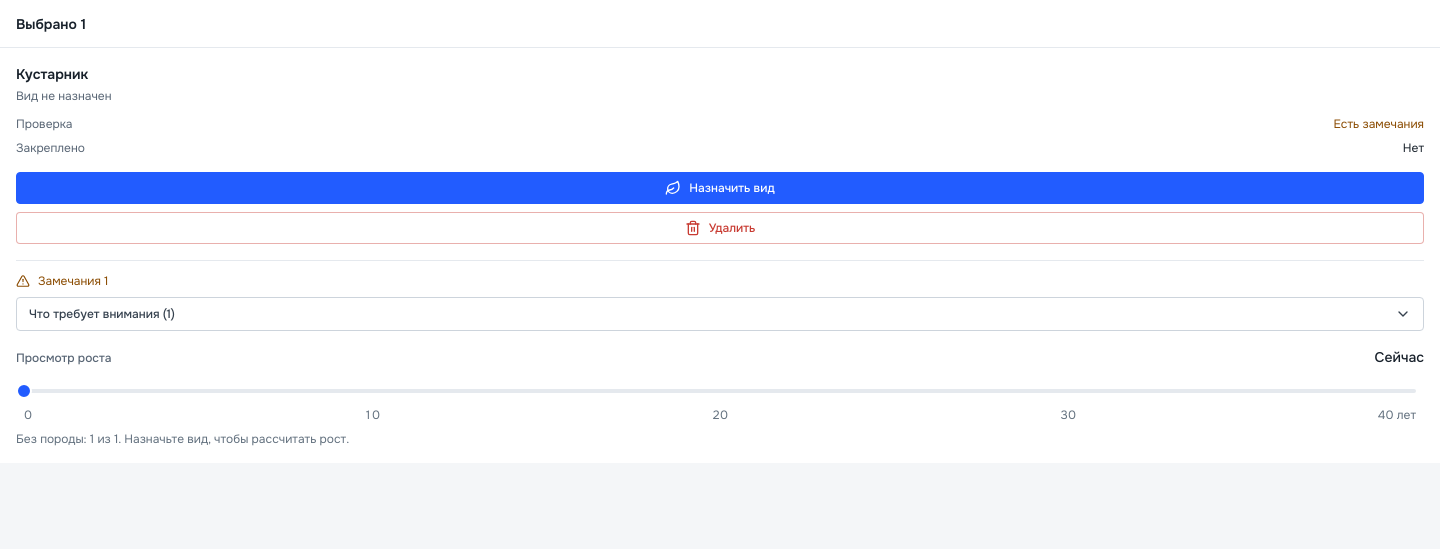
Test: ObjectInspector › shows one cause for repeated checks of the selected planting
The width and height of the screenshot is (1440, 549).
Expected: the message named "Ошибки: 0. Замечания: 1." is shown, [16,273,108,289]
Click the button "Что требует внимания (1)": (102, 314) [17,298,1423,330]
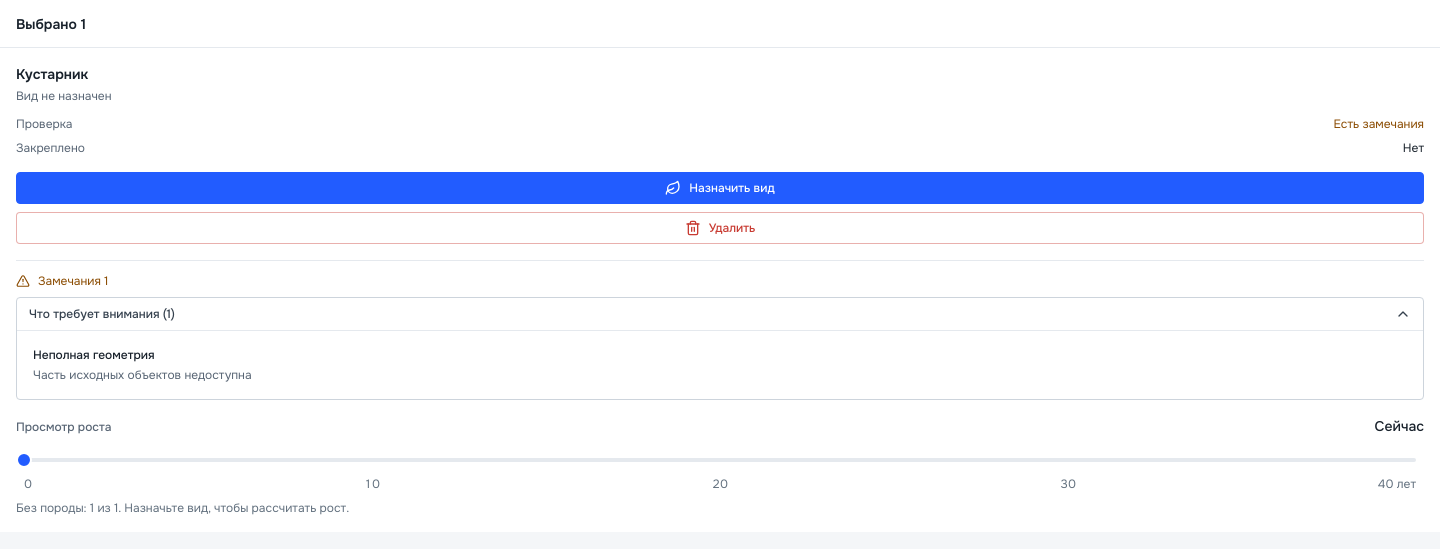
Expected: the text "Часть исходных объектов недоступна" is shown once, [33,367,252,383]
